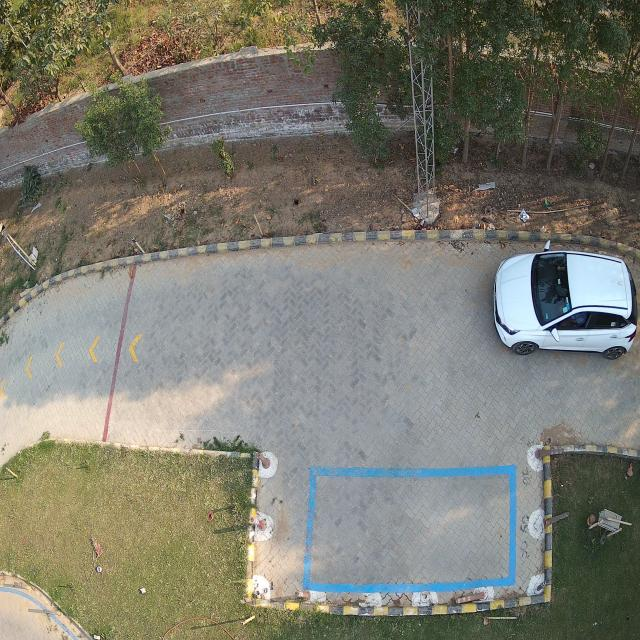car: (491, 251, 637, 359)
